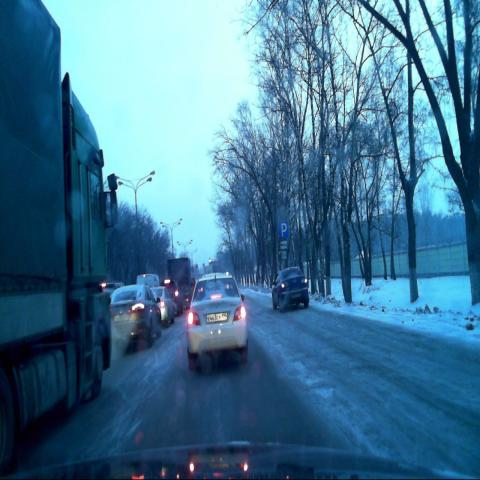6_4: (278, 220, 290, 240)
